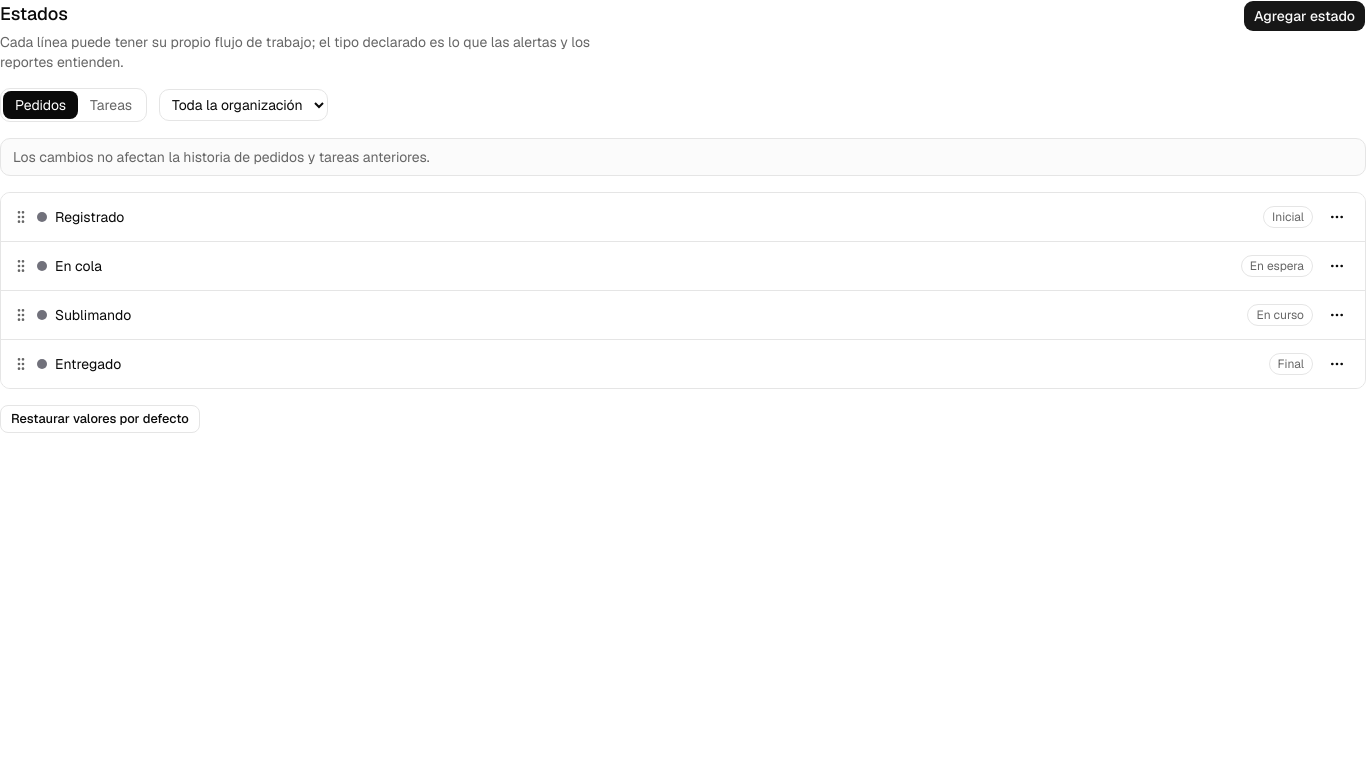
Test: StatusesSection · editar y agregar en un diálogo › la marca de cola sobre un estado que no es de espera se rechaza dentro del diálogo
The width and height of the screenshot is (1366, 768).
Click the button named "Acciones de Sublimando" at (1337, 315), box [1321,299,1353,331]
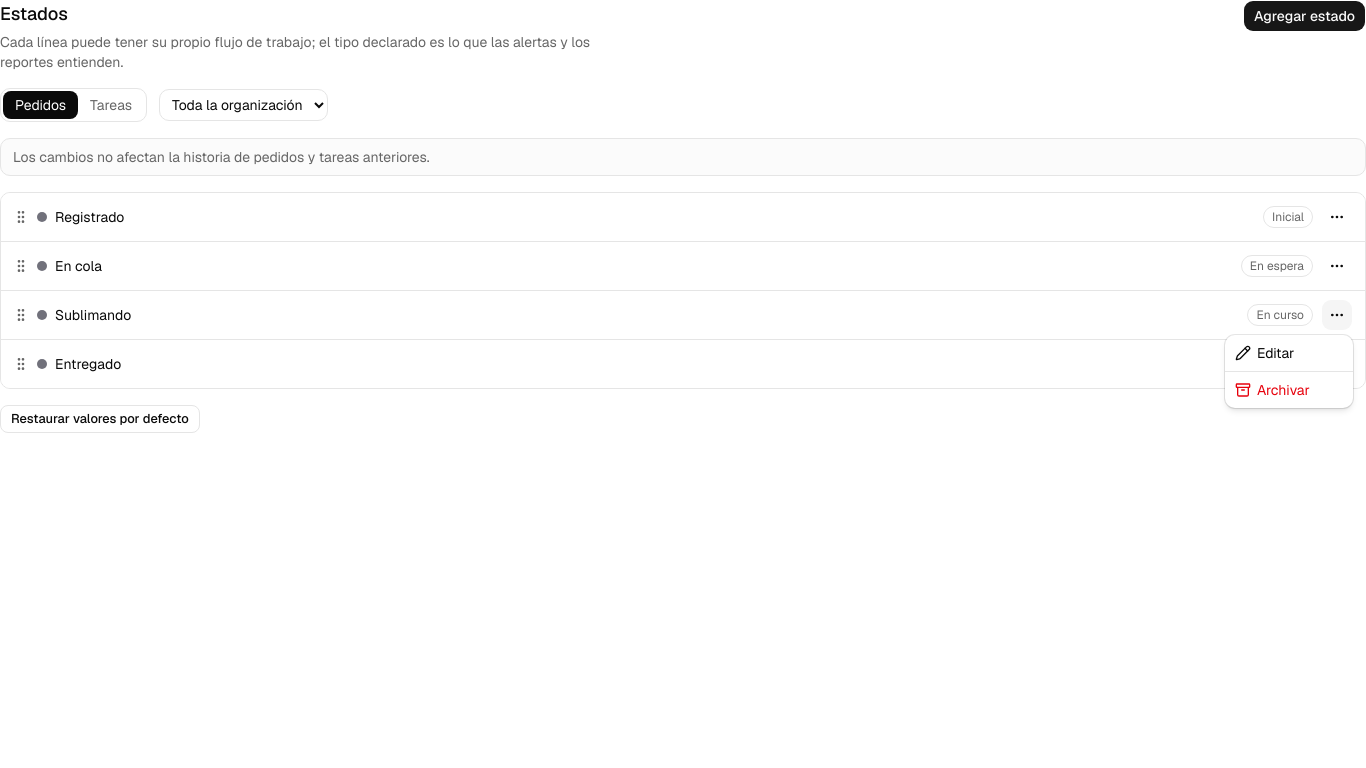
Click the menu item "Editar" at (1265, 353), box [1235,344,1294,362]
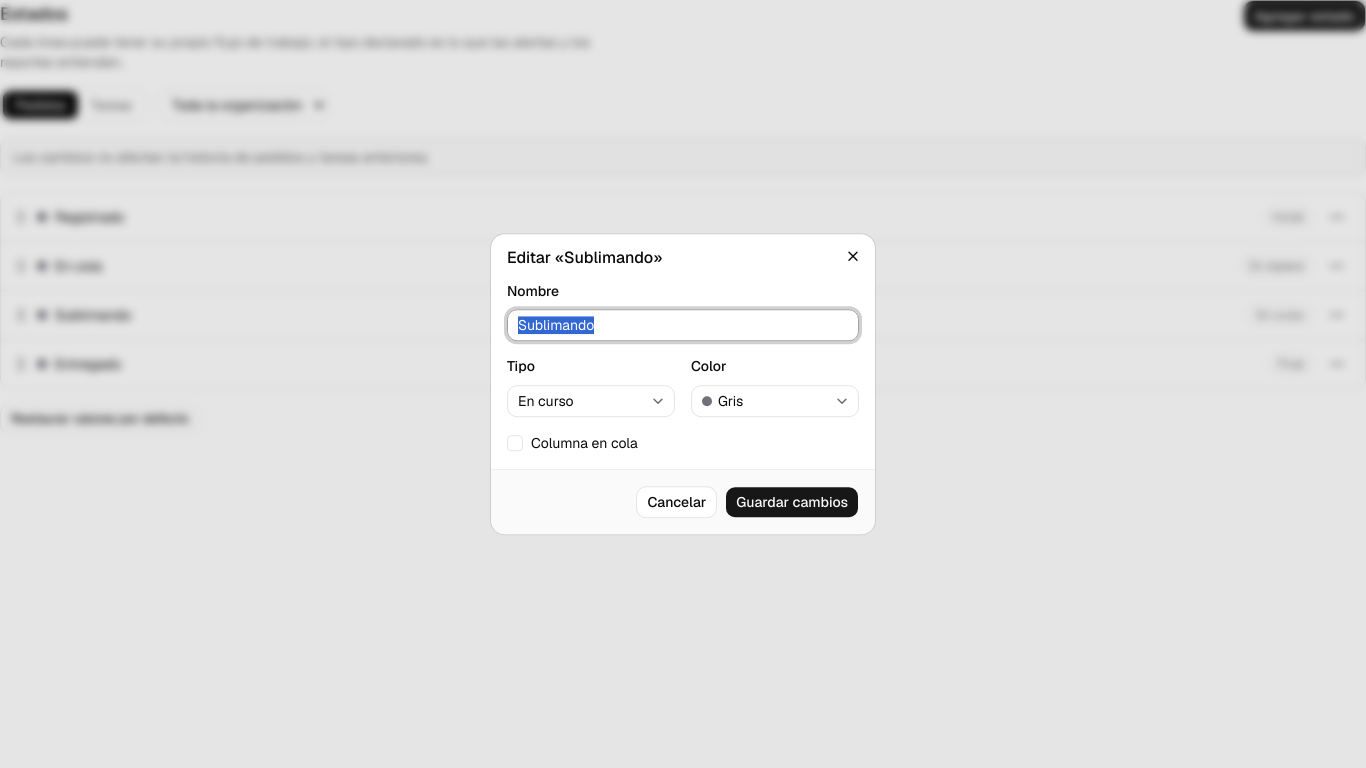
Click the checkbox named "Columna en cola" at (515, 443), box [507,435,523,451]
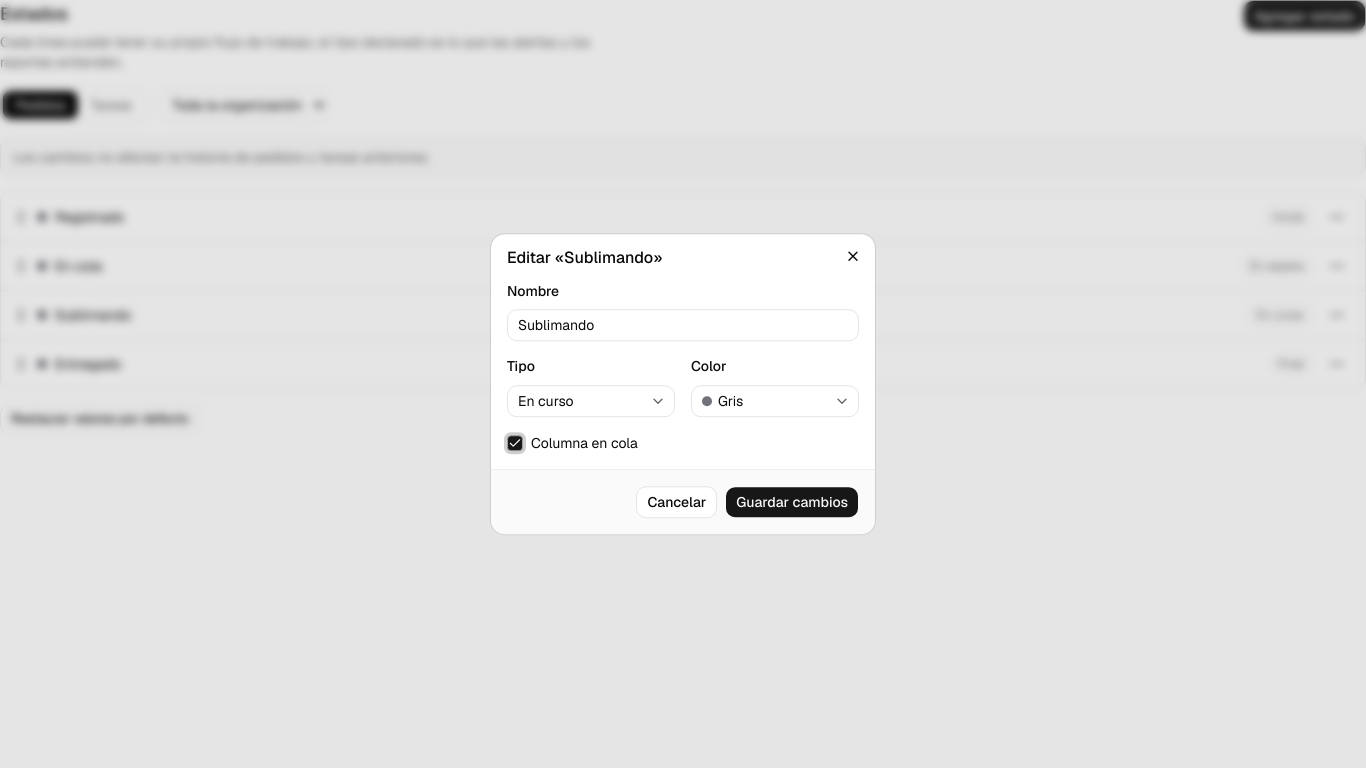
Click the button "Guardar cambios" at (792, 502), box [725,486,859,518]
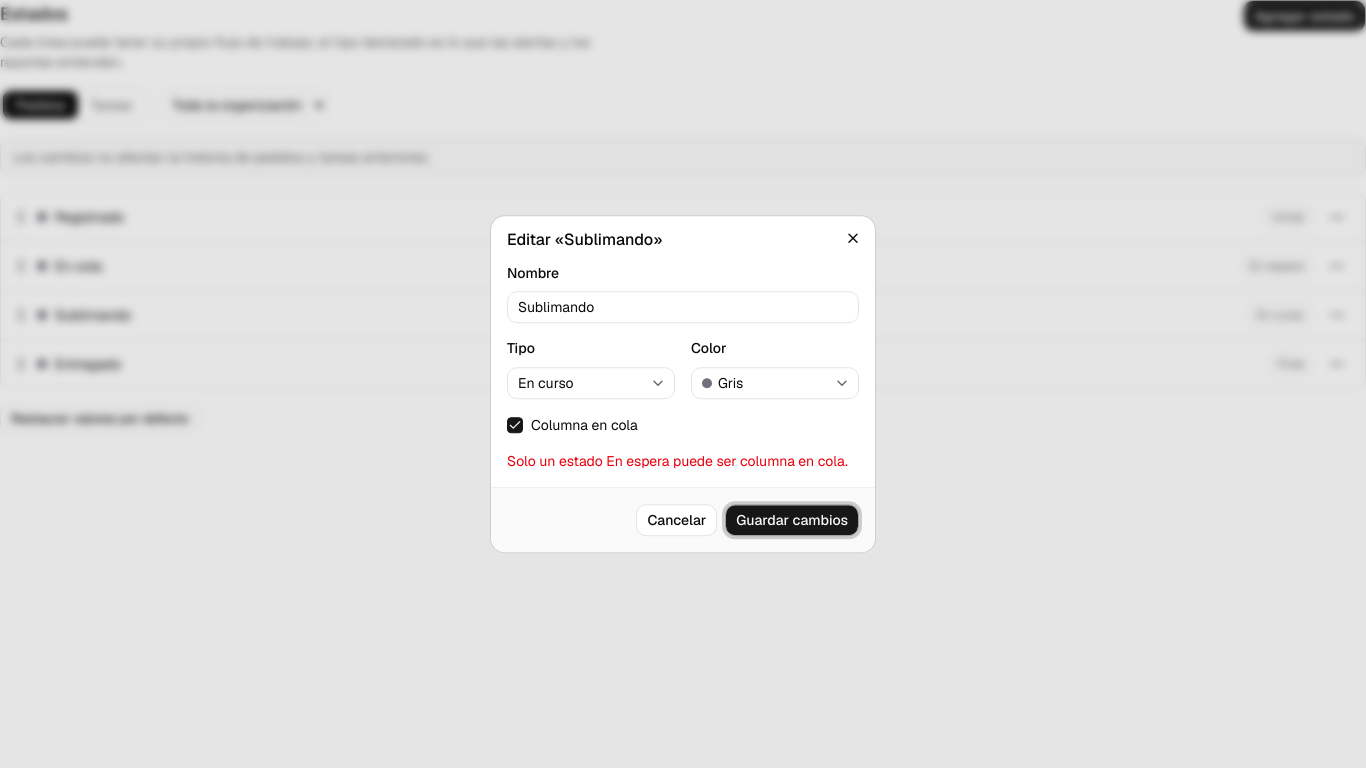
Check: the message shows "En espera", box [507,452,848,470]
